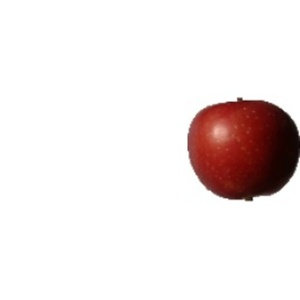maçã braeburn: (185, 97, 300, 202)
